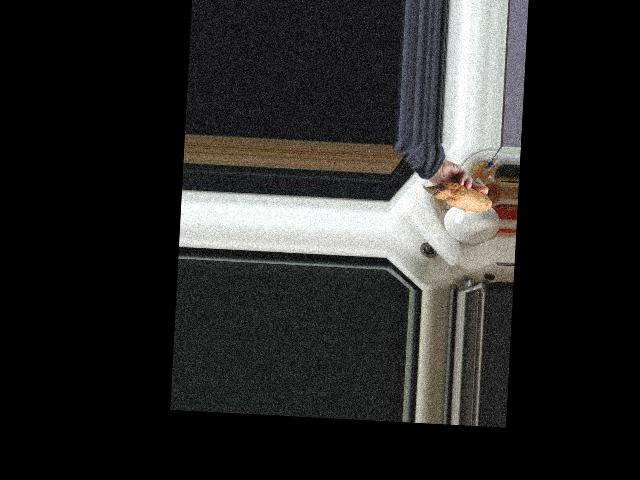sweet_potato: (421, 180, 492, 214)
